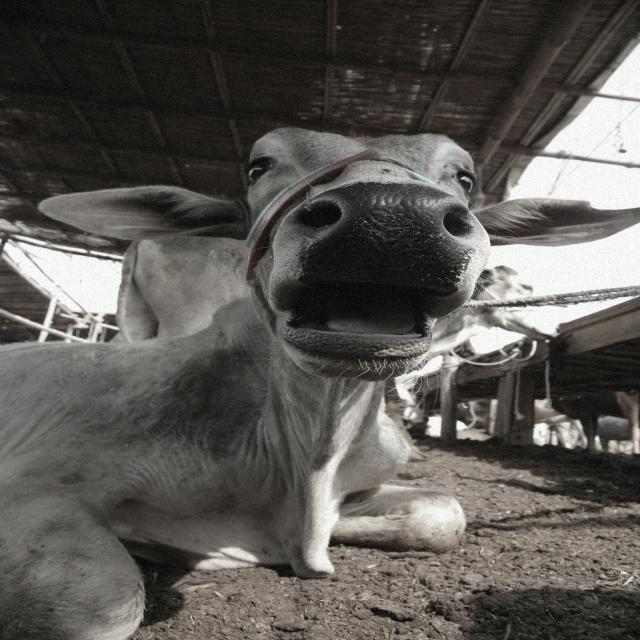muzzles: (284, 180, 484, 297)
